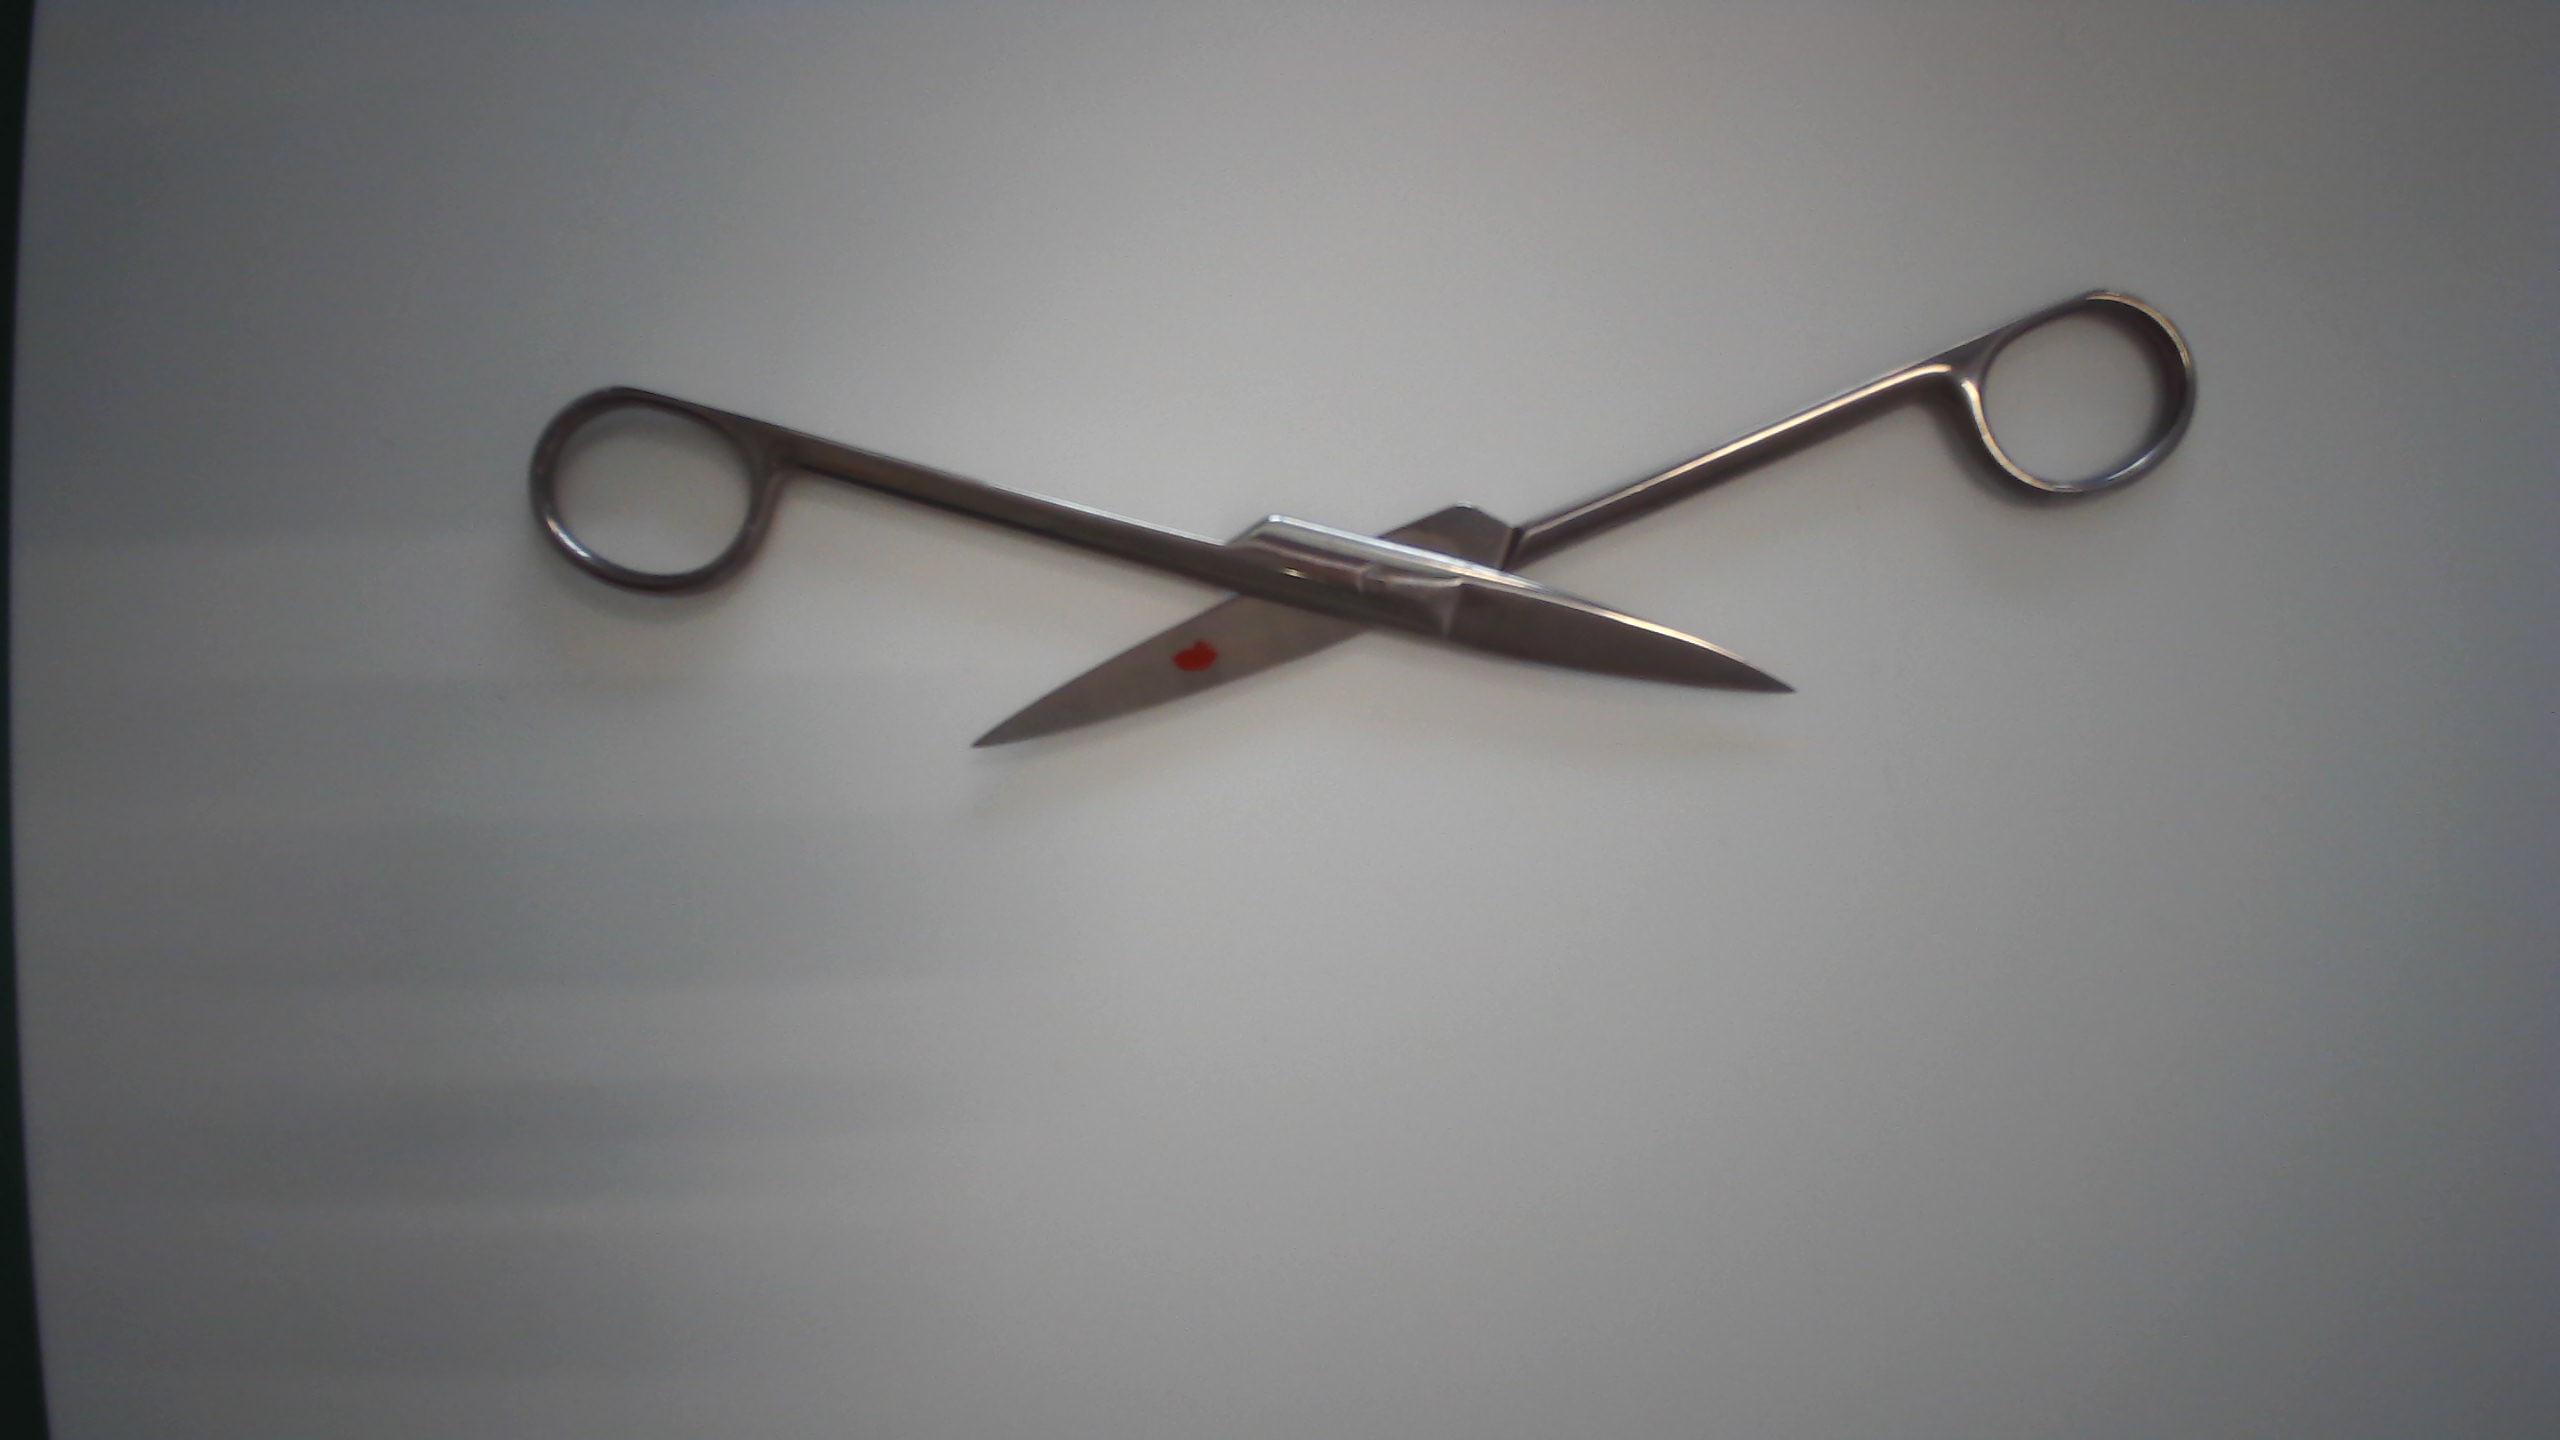Stain: (1167, 631, 1224, 675)
